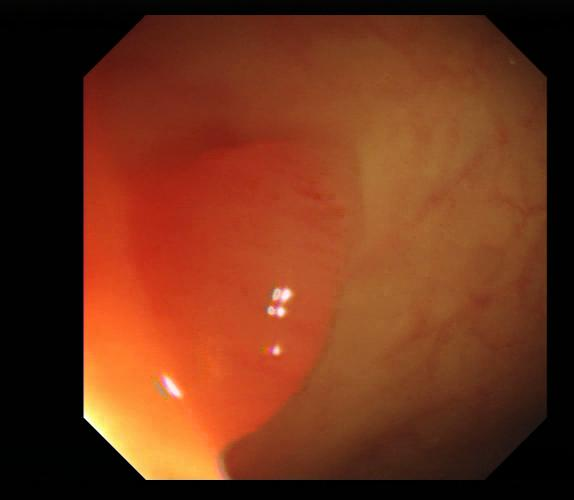polyp: (118, 143, 340, 448)
